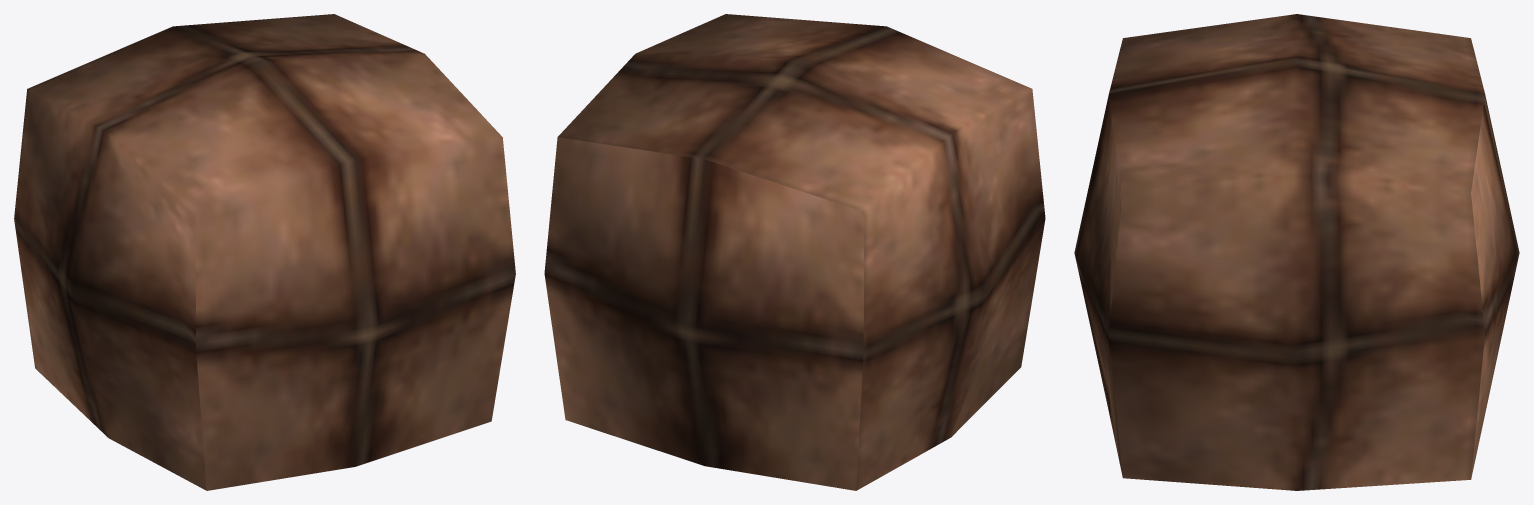
Rendered from 2_YiZhan_ZaWu_CaoLiaoBao_02.FBX.
3 renders of one model, left to right at view 1: azimuth 30°, elevation 25°; view 2: azimuth 150°, elevation 25°; view 3: azimuth 270°, elevation 25°, orthographic. The views are drawn at different scales.
Parts seen in each view (by area): view 1: 2_YiZhan_ZaWu_CaoLiaoBao_02; view 2: 2_YiZhan_ZaWu_CaoLiaoBao_02; view 3: 2_YiZhan_ZaWu_CaoLiaoBao_02.
Part boxes in pixels (x1,y1,x2,y2): 2_YiZhan_ZaWu_CaoLiaoBao_02: (14,14,515,490); 2_YiZhan_ZaWu_CaoLiaoBao_02: (544,14,1045,490); 2_YiZhan_ZaWu_CaoLiaoBao_02: (1074,14,1519,490).
Size of the model in its own units: 92.23 by 78.83 by 90.83.
